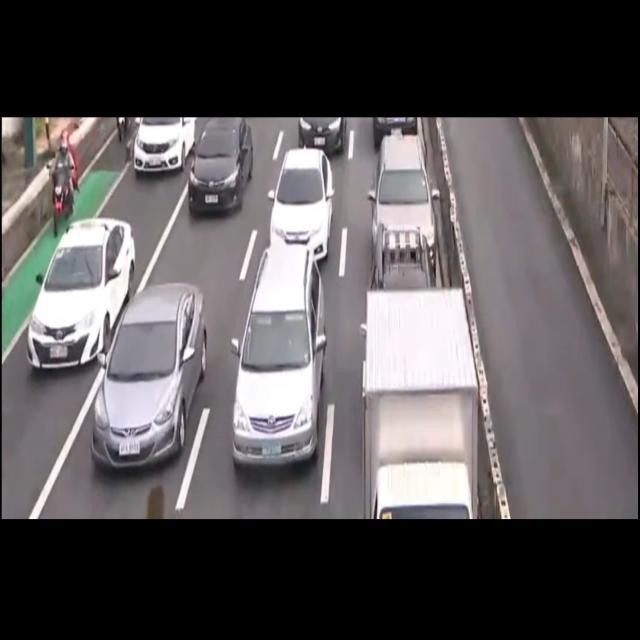Motorcycle: (47, 128, 78, 242)
SUV: (231, 249, 327, 464), (371, 133, 437, 273)
Sedan: (91, 283, 209, 470), (26, 219, 136, 372), (267, 153, 334, 262), (185, 120, 254, 216), (132, 107, 195, 177), (294, 112, 345, 156)
Truck: (359, 287, 482, 520)
